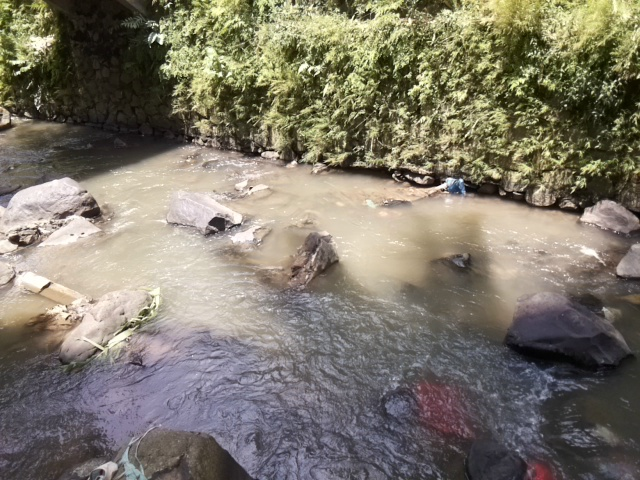Sampah_Plastik: (442, 175, 469, 199)
